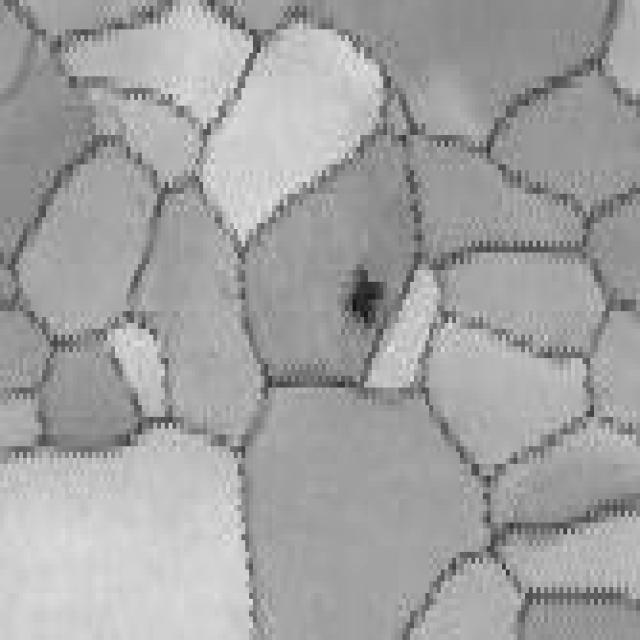good_void: (344, 266, 384, 331)
